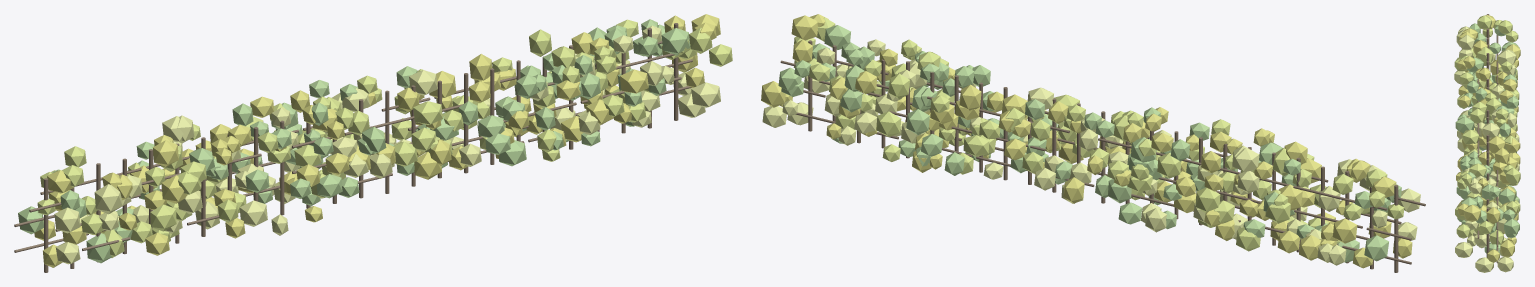
3 renders of one model, left to right at view 1: azimuth 30°, elevation 25°; view 2: azimuth 150°, elevation 25°; view 3: azimuth 270°, elevation 25°, orthographic. The views are drawn at different scales.
Parts seen in each view (by area): view 1: Icosphere.029, Icosphere.204, Icosphere.051, Icosphere.288, Icosphere.080, Icosphere.230, Icosphere.315, Icosphere.146, Icosphere.049, Icosphere.225, Icosphere.260, Icosphere.090 (+22 smaller); view 2: Icosphere.316, Icosphere.154, Icosphere.138, Icosphere.290, Icosphere.051, Icosphere.228, Icosphere.203, Icosphere.264, Icosphere.015, Icosphere.258, Icosphere.066, Icosphere.193 (+15 smaller); view 3: Icosphere.316, Icosphere.204, Icosphere.324, Icosphere.078, Icosphere.146, Icosphere.088, Icosphere.288, Icosphere.290, Icosphere.281, Icosphere.298, Icosphere.007, Icosphere.144 (+97 smaller).
Boxes of the visible parts, <box> form: Icosphere.029: <box>94,184,122,214</box>; Icosphere.204: <box>691,82,720,107</box>; Icosphere.051: <box>661,28,690,54</box>; Icosphere.288: <box>413,101,442,124</box>; Icosphere.080: <box>239,200,267,226</box>; Icosphere.230: <box>150,204,176,231</box>; Icosphere.315: <box>620,69,648,93</box>; Icosphere.146: <box>409,70,437,95</box>; Icosphere.049: <box>153,140,178,166</box>; Icosphere.225: <box>414,152,441,179</box>; Icosphere.260: <box>54,207,80,233</box>; Icosphere.090: <box>86,233,112,263</box>; Icosphere.316: <box>791,15,817,40</box>; Icosphere.154: <box>876,111,901,137</box>; Icosphere.138: <box>1364,235,1388,261</box>; Icosphere.290: <box>761,81,785,107</box>; Icosphere.051: <box>824,25,850,49</box>; Icosphere.228: <box>1195,187,1220,212</box>; Icosphere.203: <box>1232,148,1259,172</box>; Icosphere.264: <box>1332,218,1357,243</box>; Icosphere.015: <box>906,109,929,134</box>; Icosphere.258: <box>1157,153,1181,178</box>; Icosphere.066: <box>959,84,981,110</box>; Icosphere.193: <box>963,135,989,156</box>; Icosphere.316: <box>1463,204,1480,221</box>; Icosphere.204: <box>1455,242,1472,257</box>; Icosphere.324: <box>1455,116,1474,133</box>; Icosphere.078: <box>1475,257,1493,272</box>; Icosphere.146: <box>1482,122,1499,138</box>; Icosphere.088: <box>1488,136,1505,153</box>; Icosphere.288: <box>1462,129,1479,144</box>; Icosphere.290: <box>1500,239,1514,257</box>; Icosphere.281: <box>1497,256,1513,272</box>; Icosphere.298: <box>1504,219,1519,234</box>; Icosphere.007: <box>1499,188,1515,204</box>; Icosphere.144: <box>1506,167,1520,184</box>.
Bounding box in the file's own units: 10.51 × 1.67 × 1.38.
